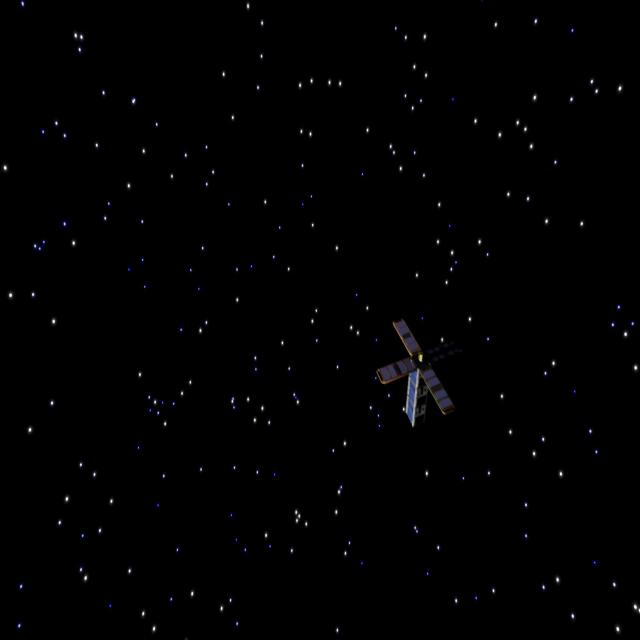medium_debris: (372, 316, 453, 443)
